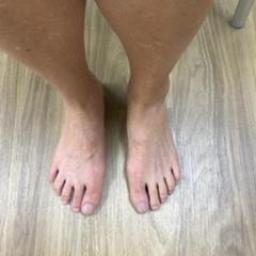Dorsal View -Both Feet-: (26, 63, 207, 230)
